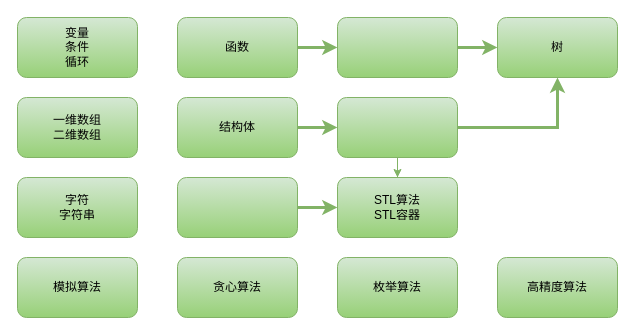
Some shapes in this 635 by 335 pixel diagram are drawn without their labels. Here are the shapes that lost their labels. From the top down, the centre of each, then its label:
At point (397, 47): "递推 递归".
At point (397, 127): "线性表 队列 栈".
At point (237, 207): "指针".
